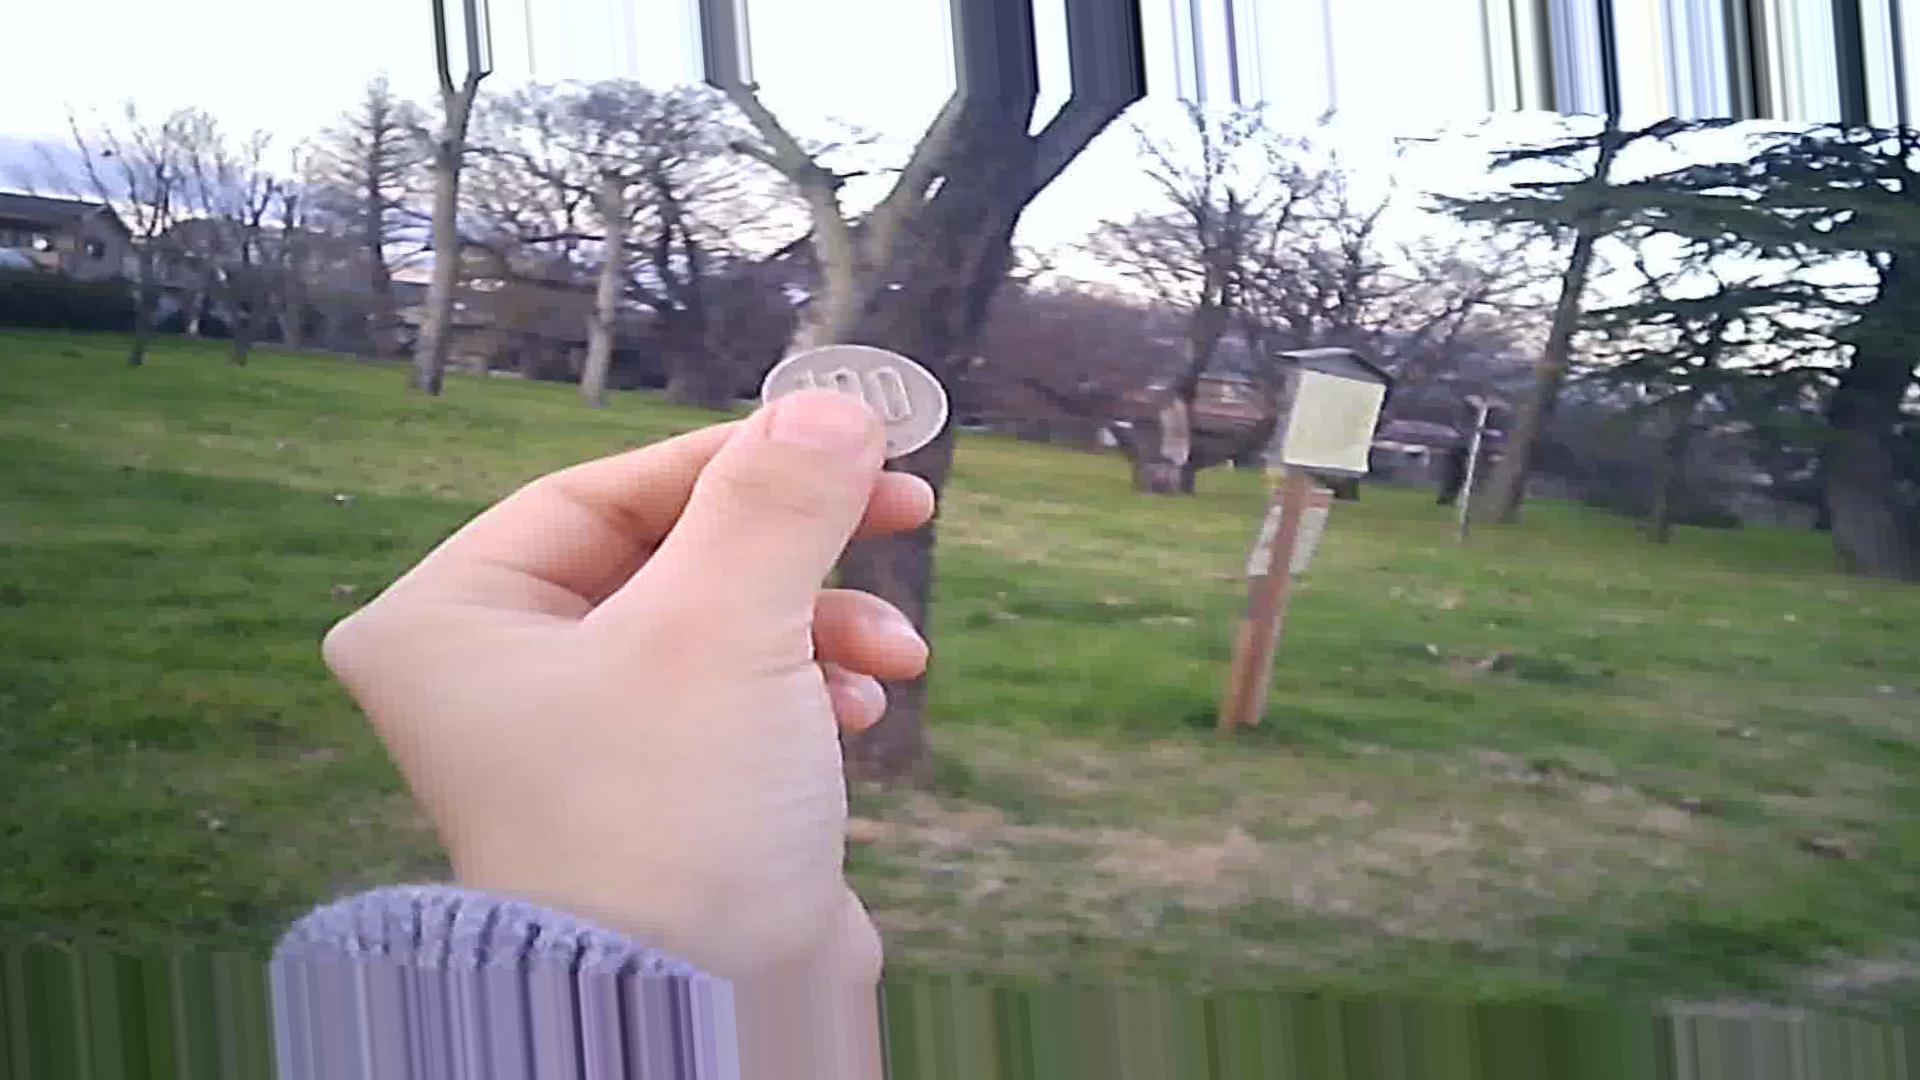100 Yen: (756, 330, 953, 468)
